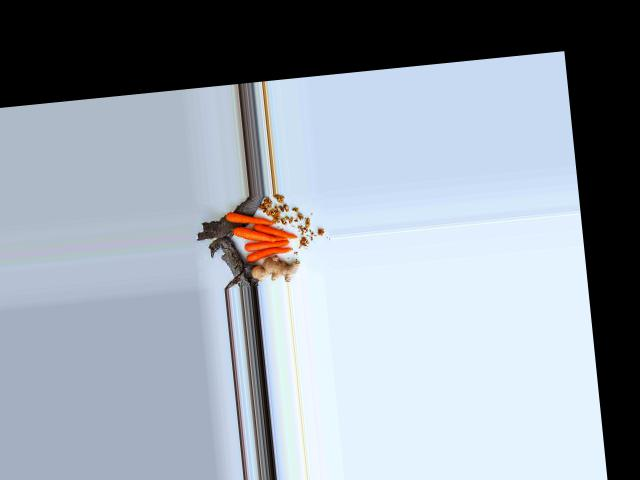carrot: (243, 244, 291, 268)
